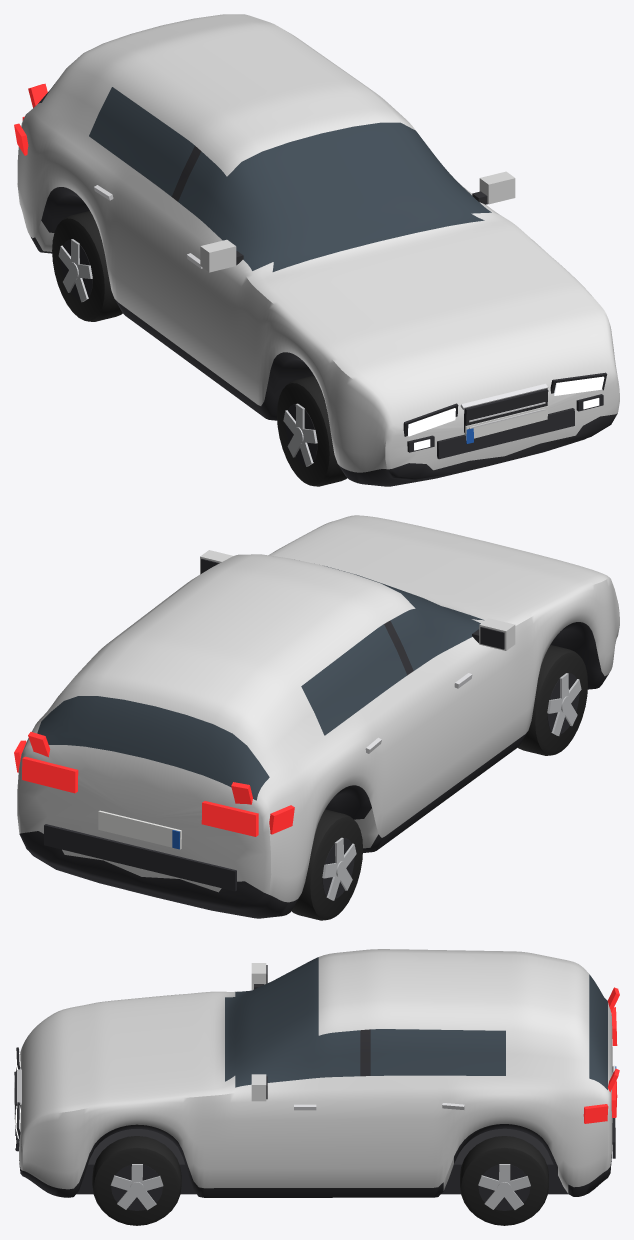
Rendered from car_fabia.glb.
The picture shows the model from 3 angles, top to bottom: view 1: azimuth 30°, elevation 25°; view 2: azimuth 150°, elevation 25°; view 3: azimuth 270°, elevation 25°; orthographic projection. The views are drawn at different scales.
Parts seen in each view (by area): view 1: car_fabia; view 2: car_fabia; view 3: car_fabia.
Part boxes in pixels (x1,y1,x2,y2): car_fabia: (14,14,619,486); car_fabia: (14,515,619,920); car_fabia: (14,949,619,1225).
Bounding box in the file's own units: 1.94 × 1.5 × 4.07.
